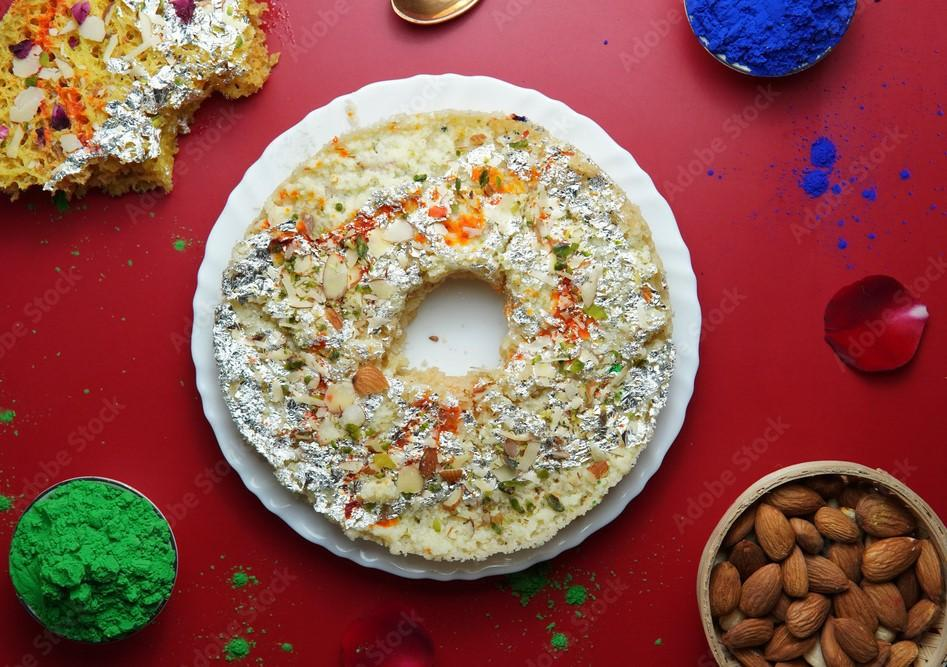Ghevar: (214, 110, 682, 570), (0, 0, 277, 204)
